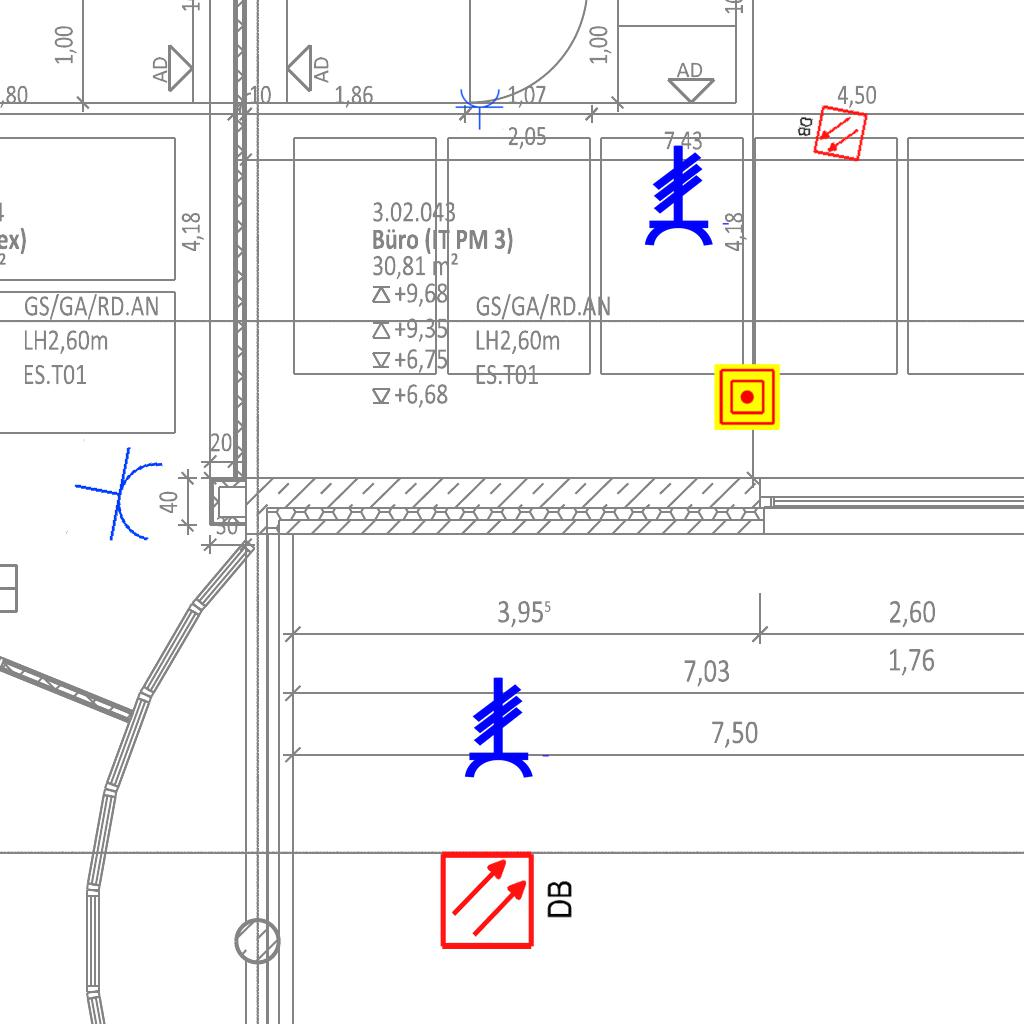CEE_Drehstrom_Steckdose_16_32_A: (462, 676, 552, 780), (642, 144, 732, 248)
DB_Melder_in_Doppelboden_mit_Revisionsoeffnung_mind_40_x_40_cm: (433, 842, 582, 956), (788, 96, 873, 168)
NAM-Nichtautomatischer_Melder: (714, 364, 780, 430)
Schukosteckdose_einfach: (64, 437, 170, 552), (455, 87, 505, 130)
